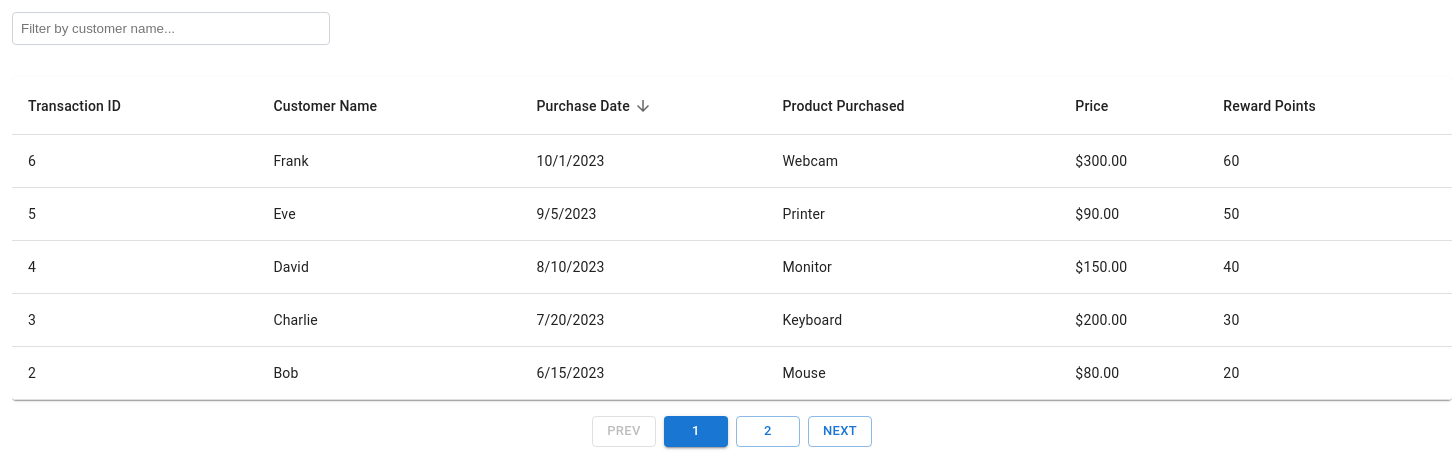
TransactionsTable › navigates to second page with pagination (shows Alice only)
Click the button "2": click(768, 432) [736,416,800,447]
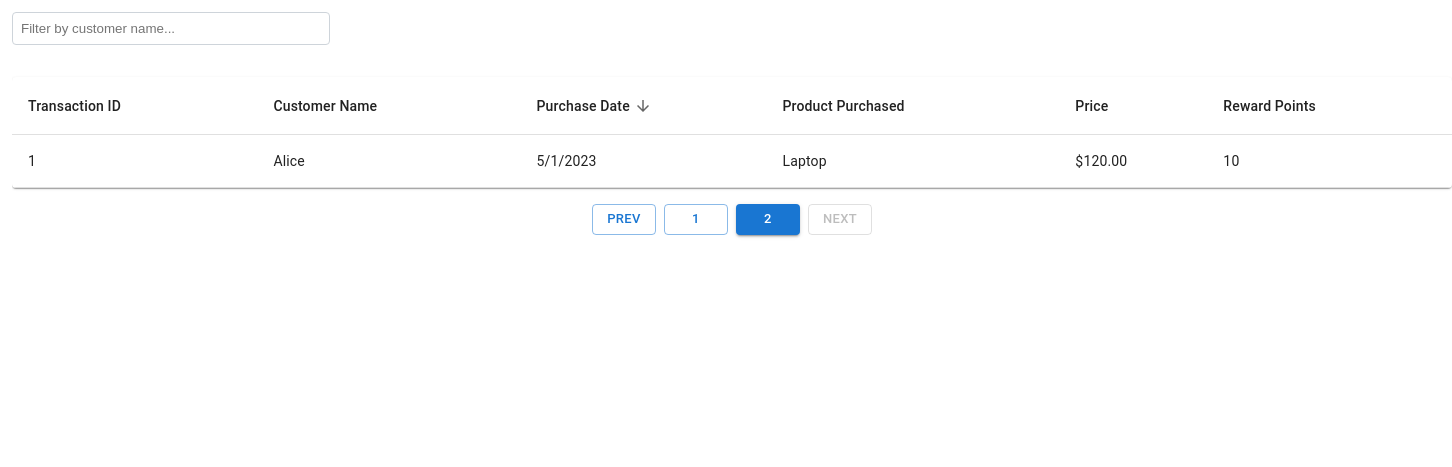
expect the text "Alice" is shown: met, box [257,135,520,188]
expect the text "Laptop" is shown: met, box [766,135,1059,188]
expect the text "Frank" is gone: met
